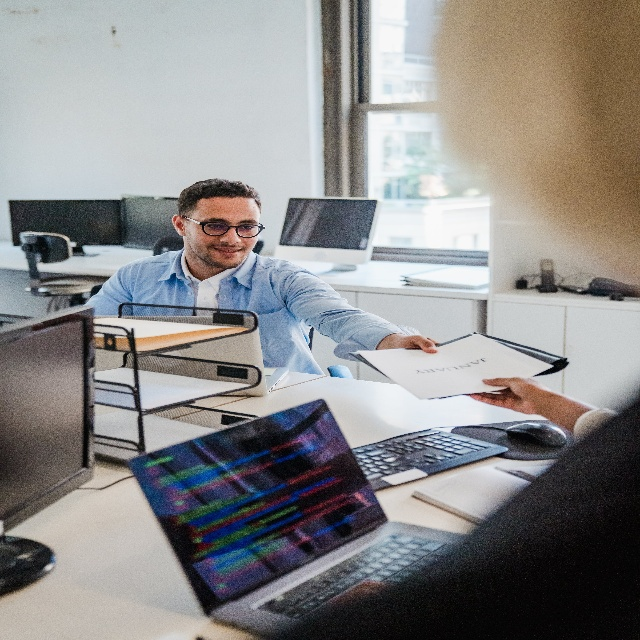Gafas: (180, 214, 266, 238)
Sin_guantes: (468, 376, 538, 415), (396, 334, 439, 353)
